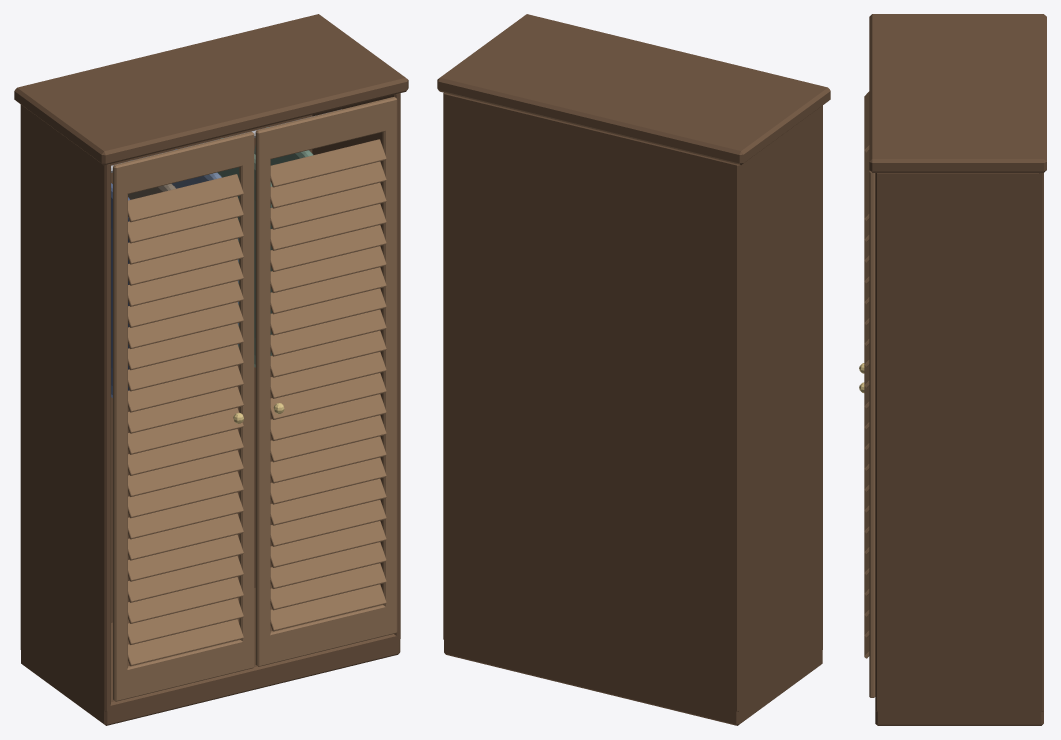
Rendered from wardrobe_slatted.fbx.
The picture shows the model from 3 angles, left to right: view 1: azimuth 30°, elevation 25°; view 2: azimuth 150°, elevation 25°; view 3: azimuth 270°, elevation 25°; orthographic projection.
Visible parts, largest first — view 1: Body, Door_R, Door_L; view 2: Body; view 3: Body, Door_R, Door_L.
Boxes of the visible parts, x1,y1,x2,y2 form: Body: [14, 14, 408, 725]; Door_R: [255, 97, 397, 666]; Door_L: [113, 131, 254, 701]; Body: [437, 14, 830, 725]; Body: [869, 14, 1046, 725]; Door_R: [859, 160, 875, 697]; Door_L: [859, 91, 869, 373].
Size of the model in its own units: 1.14 by 2.05 by 0.613.
